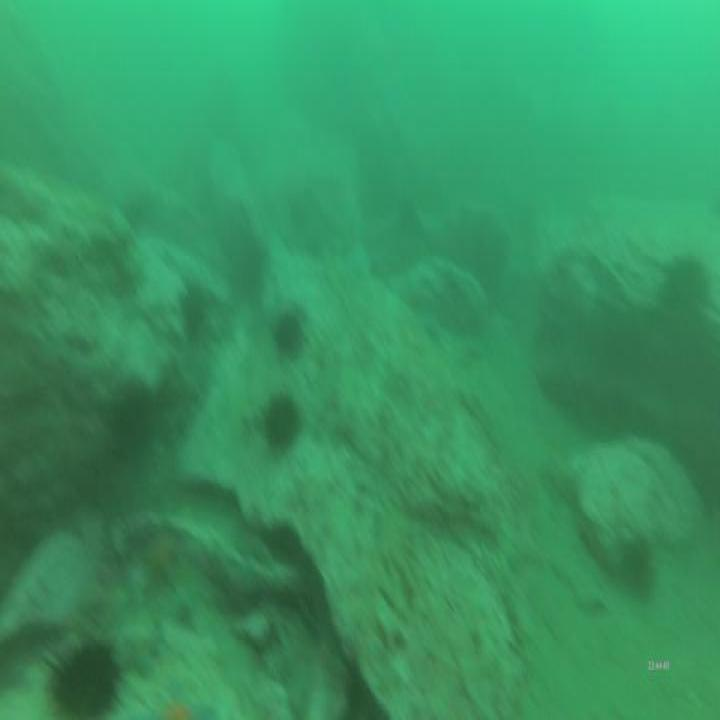echinus: (42, 624, 123, 720), (663, 247, 708, 325), (112, 379, 154, 455), (258, 386, 302, 457), (619, 528, 656, 603), (178, 283, 213, 350), (272, 304, 305, 363)
starfish: (141, 514, 184, 597), (142, 682, 229, 720)
